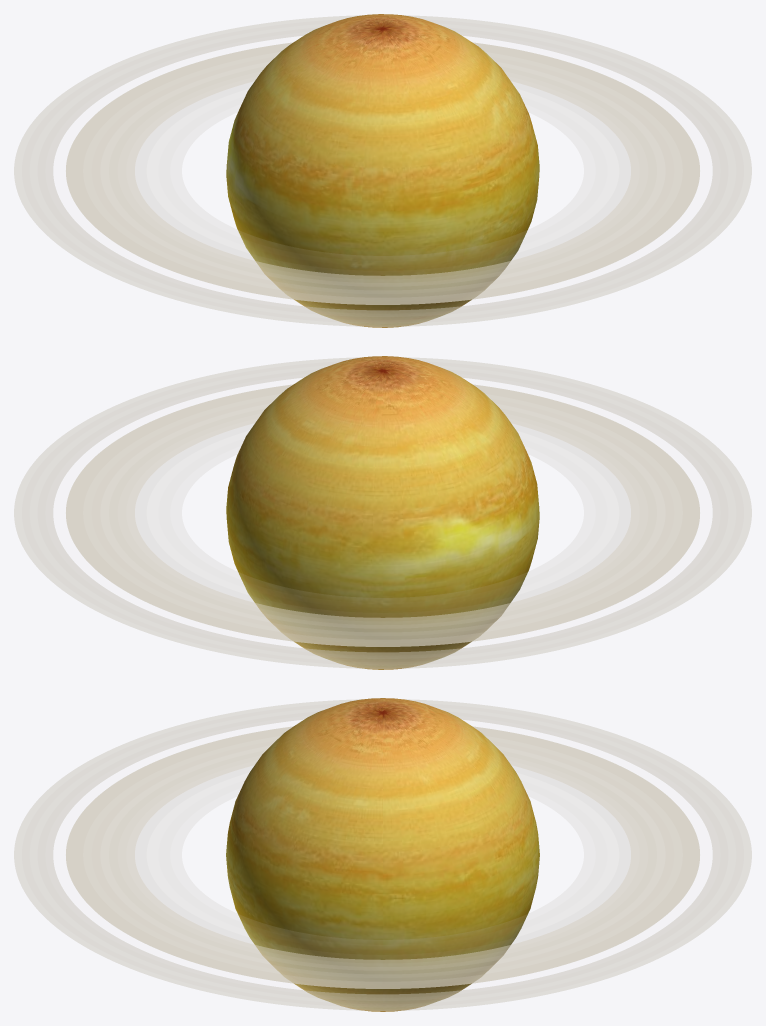
The model's file is saturn.glb.
3 renders of one model, top to bottom at view 1: azimuth 30°, elevation 25°; view 2: azimuth 150°, elevation 25°; view 3: azimuth 270°, elevation 25°, orthographic.
Size of the model in its own units: 4.7 by 2 by 4.7.
2 materials, 1 textured.
